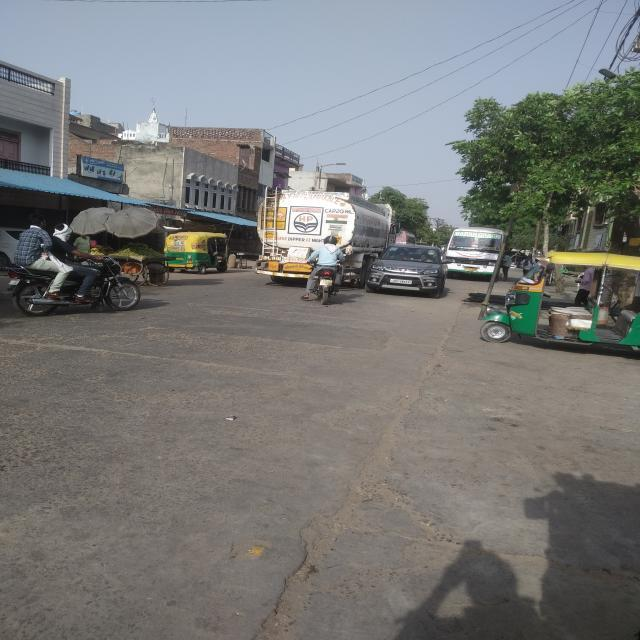auto_back: (160, 227, 234, 277)
bus_front: (442, 222, 508, 283)
car_front: (367, 240, 450, 302)
truck_back: (251, 180, 402, 288)
two_wheeler_back: (300, 243, 350, 309)
